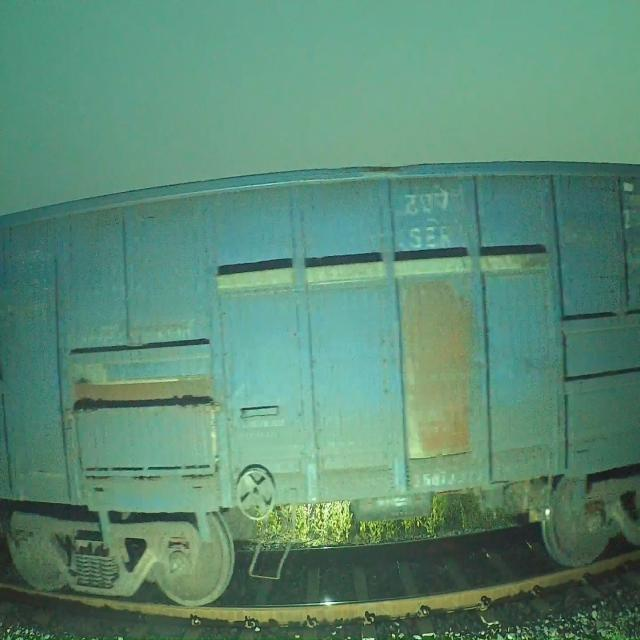WAgon-uic: (0, 158, 640, 606)
